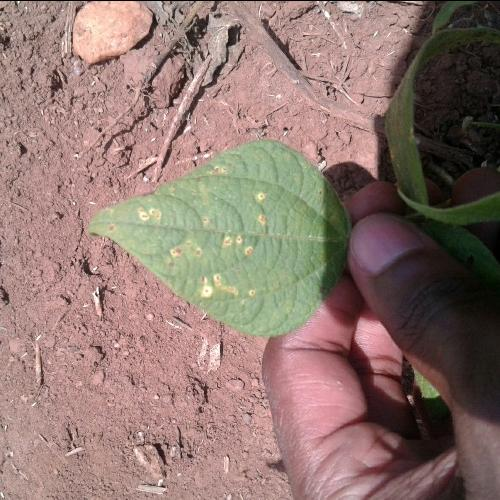hawar: (221, 184, 272, 258), (194, 272, 258, 302), (164, 236, 214, 268), (136, 199, 169, 223)
